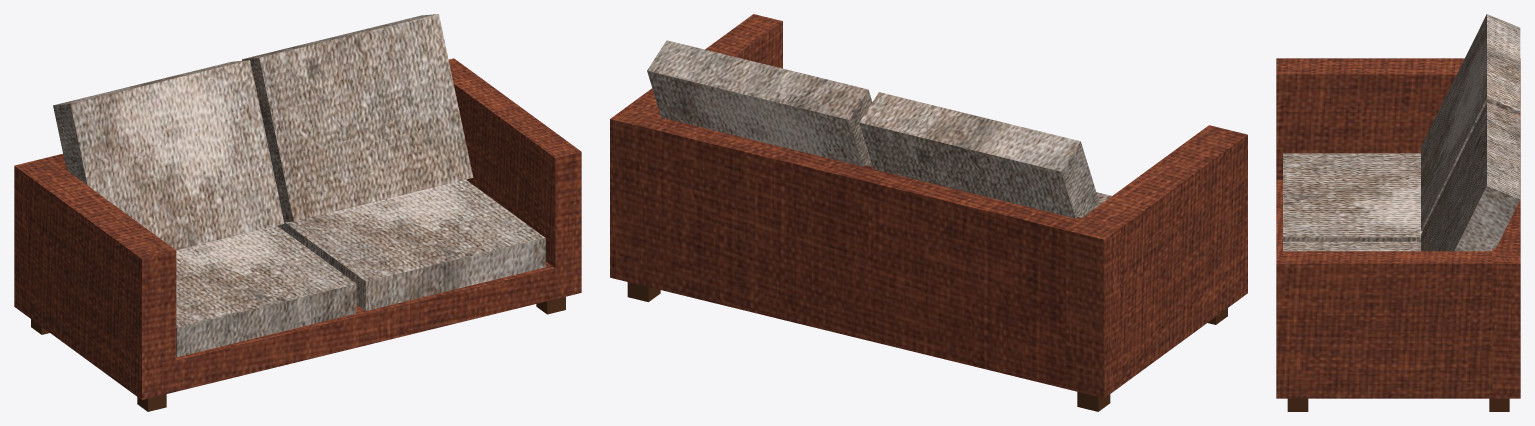
Rendered from sofa_1.fbx.
3 renders of one model, left to right at view 1: azimuth 30°, elevation 25°; view 2: azimuth 150°, elevation 25°; view 3: azimuth 270°, elevation 25°, orthographic. The views are drawn at different scales.
Parts seen in each view (by area): view 1: Cube.016; view 2: Cube.016; view 3: Cube.016.
Boxes of the visible parts, <box> form: Cube.016: <box>14,14,581,411</box>; Cube.016: <box>610,14,1247,411</box>; Cube.016: <box>1276,14,1520,411</box>.
Size of the model in its own units: 490 by 240 by 246.
